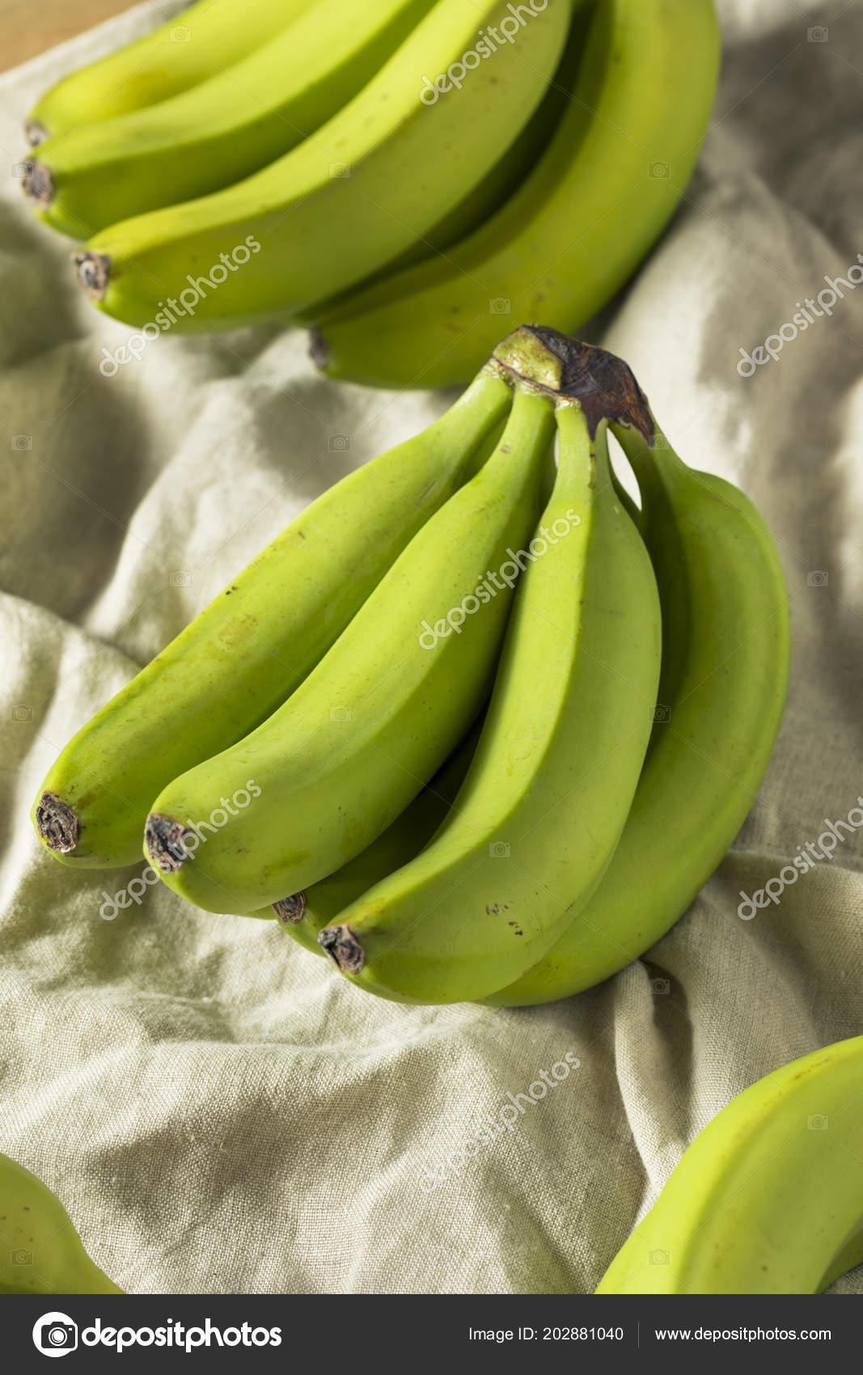Banana Unripe: (65, 315, 805, 1039)
